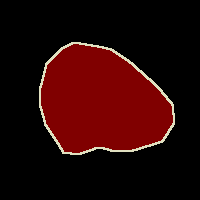hat: (40, 42, 174, 154)
